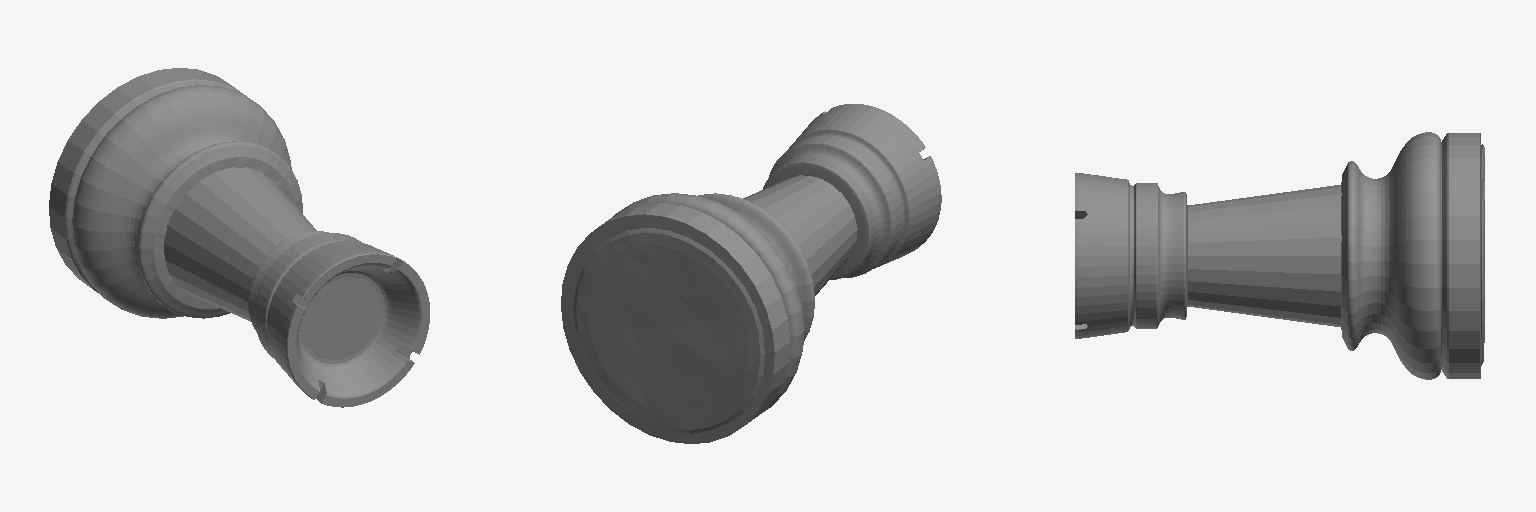
The model's file is rook.obj.
3 views of the same model, side by side, from view 1: azimuth 30°, elevation 25°; view 2: azimuth 150°, elevation 25°; view 3: azimuth 270°, elevation 25° (orthographic).
Parts seen in each view (by area): view 1: rock, rock_head; view 2: pawn_, rock, rock_head; view 3: rock, rock_head, pawn_.
Boxes of the visible parts, box(x1,y1,x2,y2) form: rock: box(49, 68, 316, 321); rock_head: box(248, 231, 429, 407); pawn_: box(573, 228, 764, 433); rock: box(561, 175, 857, 443); rock_head: box(763, 104, 941, 279); rock: box(1188, 132, 1480, 379); rock_head: box(1075, 173, 1187, 338); pawn_: box(1481, 144, 1484, 365).
Bounding box in the file's own units: 39.77 × 39.77 × 65.84.